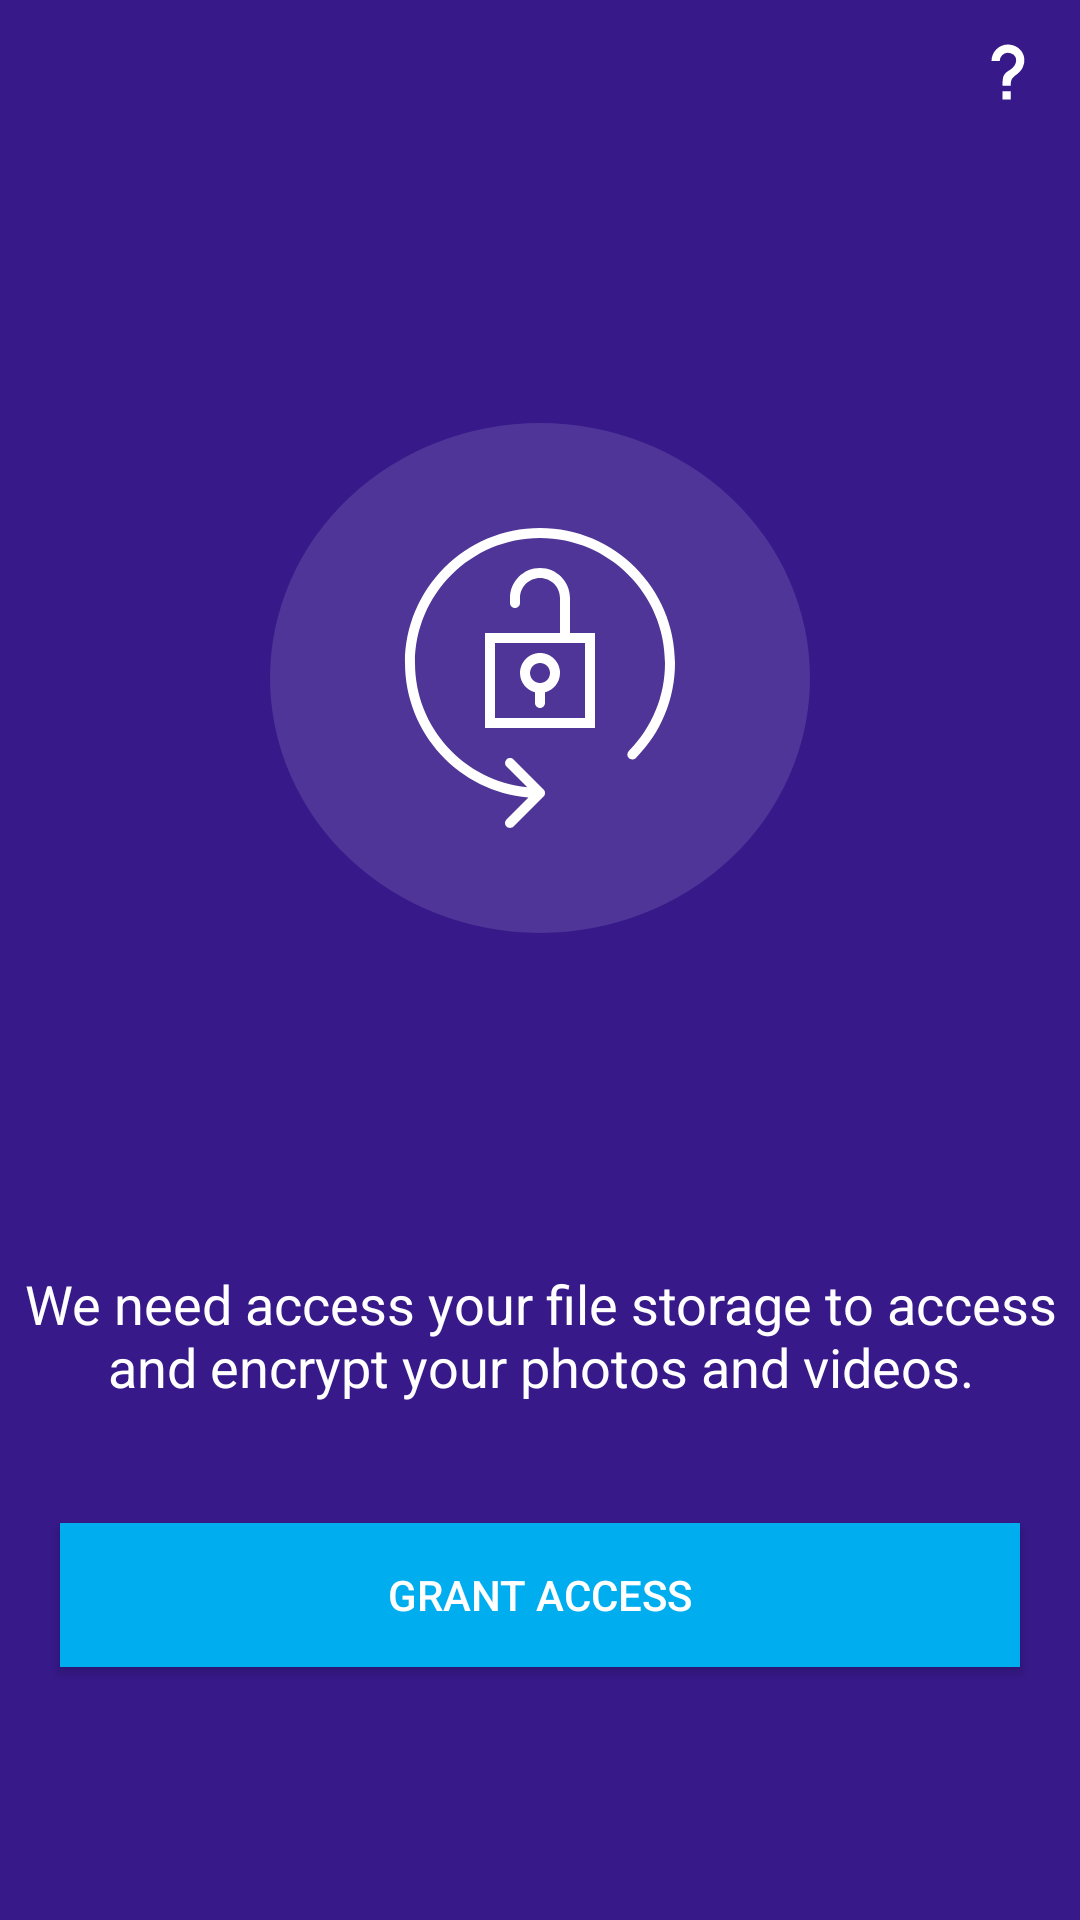

Locate icon controls on the screen. Image size 1080x1920, boxes as (x1, y1, x2, y2).
lock: (405, 528, 675, 828)
question: (991, 44, 1025, 100)
